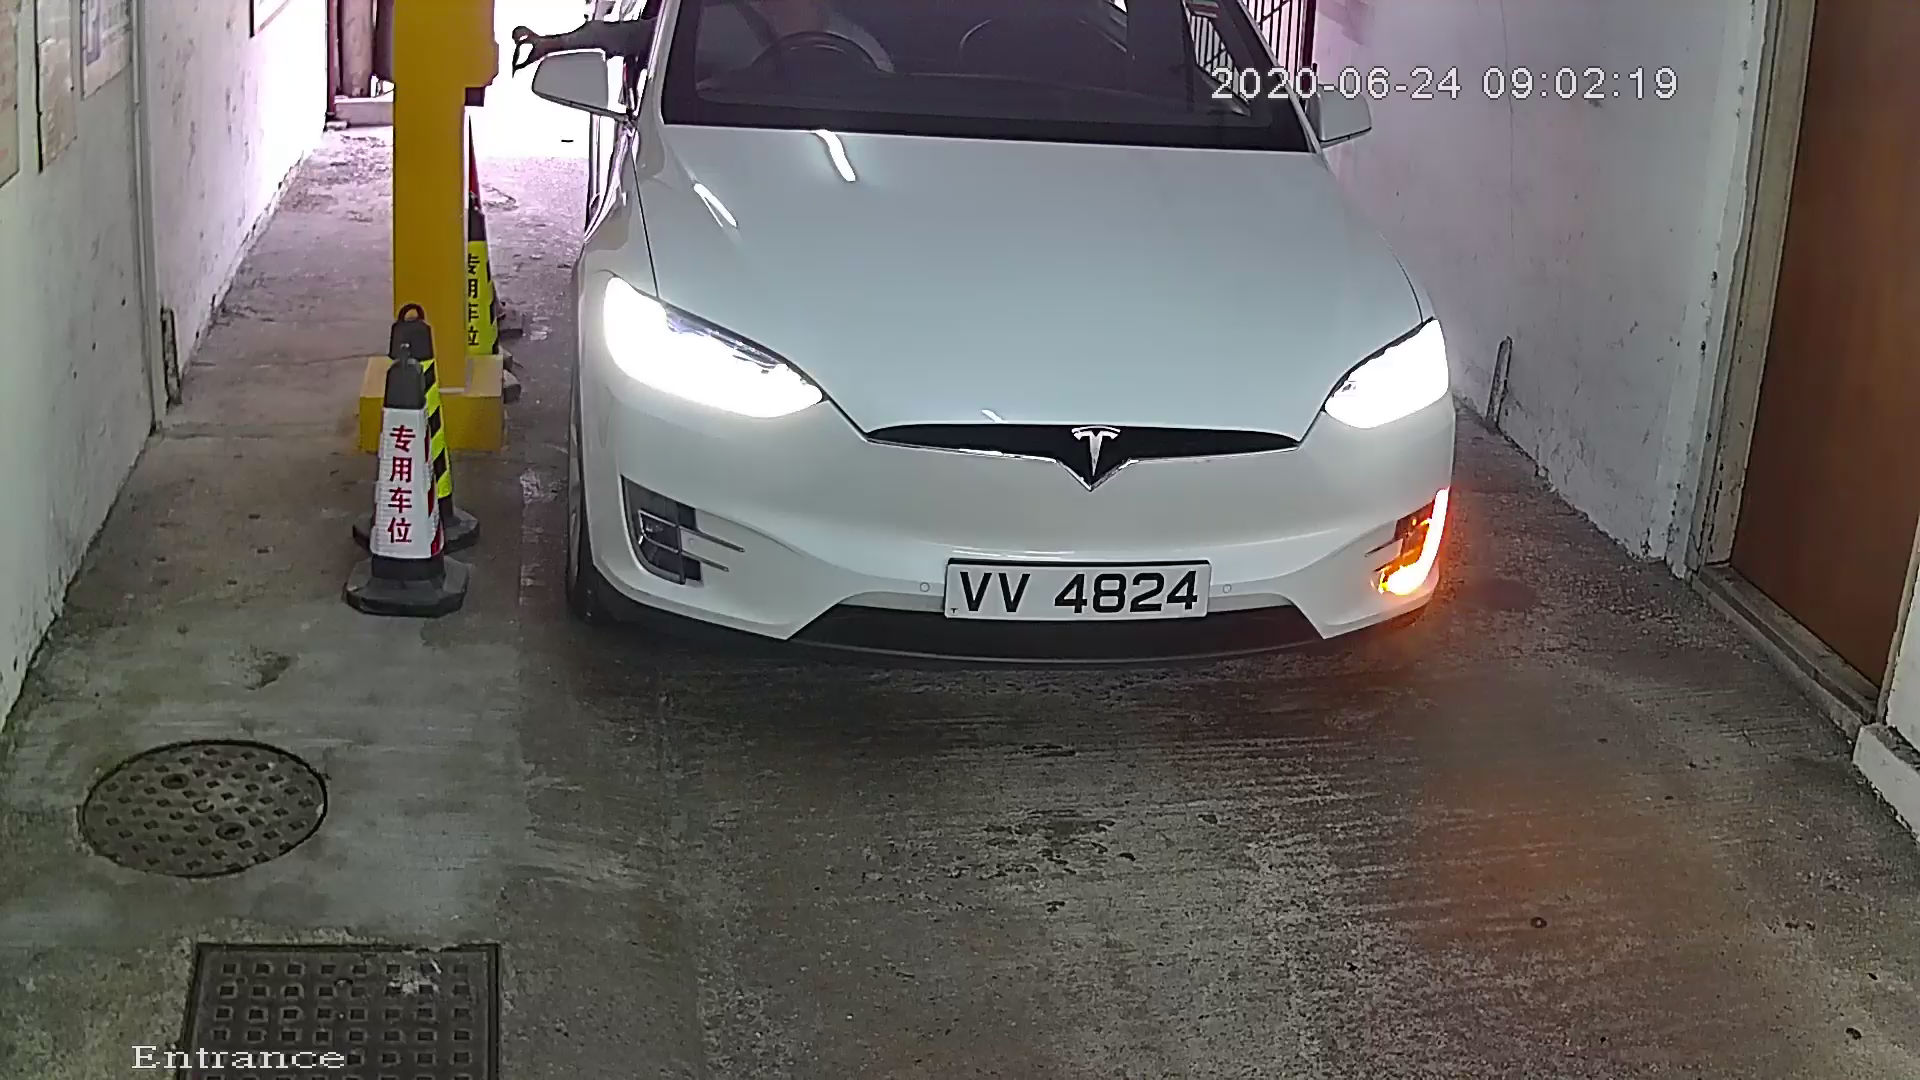privatecar: (550, 1, 1514, 699)
